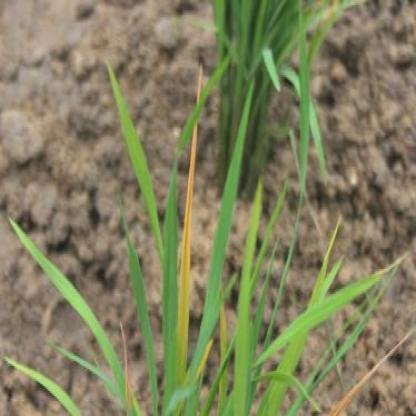Tungro: (175, 65, 208, 353)
